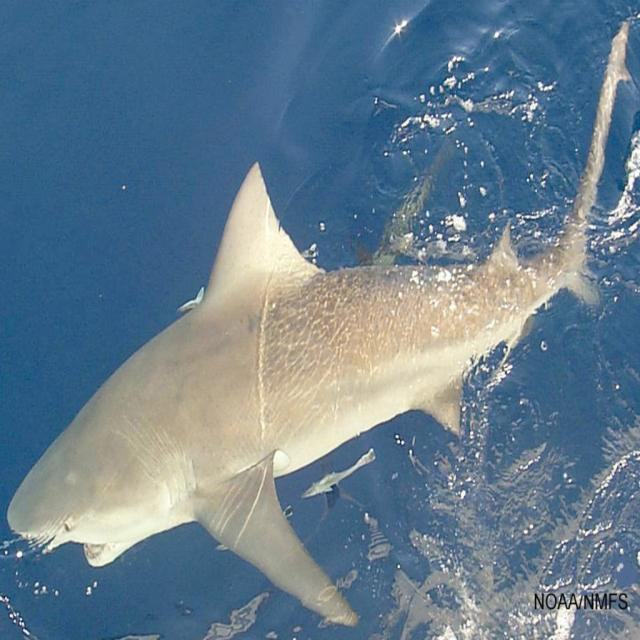Shark: (8, 16, 630, 624)
